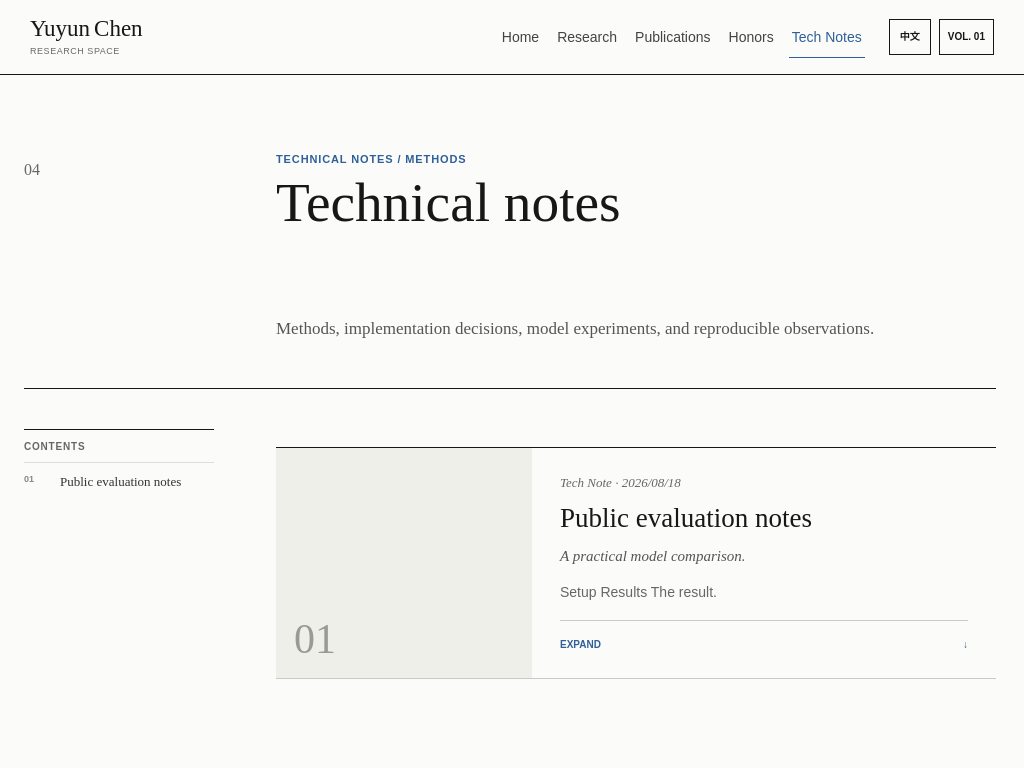
Test: owner session restoration › renders published Tech Notes on VOL.01 with the article card and outline
This screenshot has width=1024, height=768.
expect the element "Public evaluation notes" is shown: met, box [276,447,996,679]
Click the button "Expand ↓": (580, 644) [560,620,968,658]
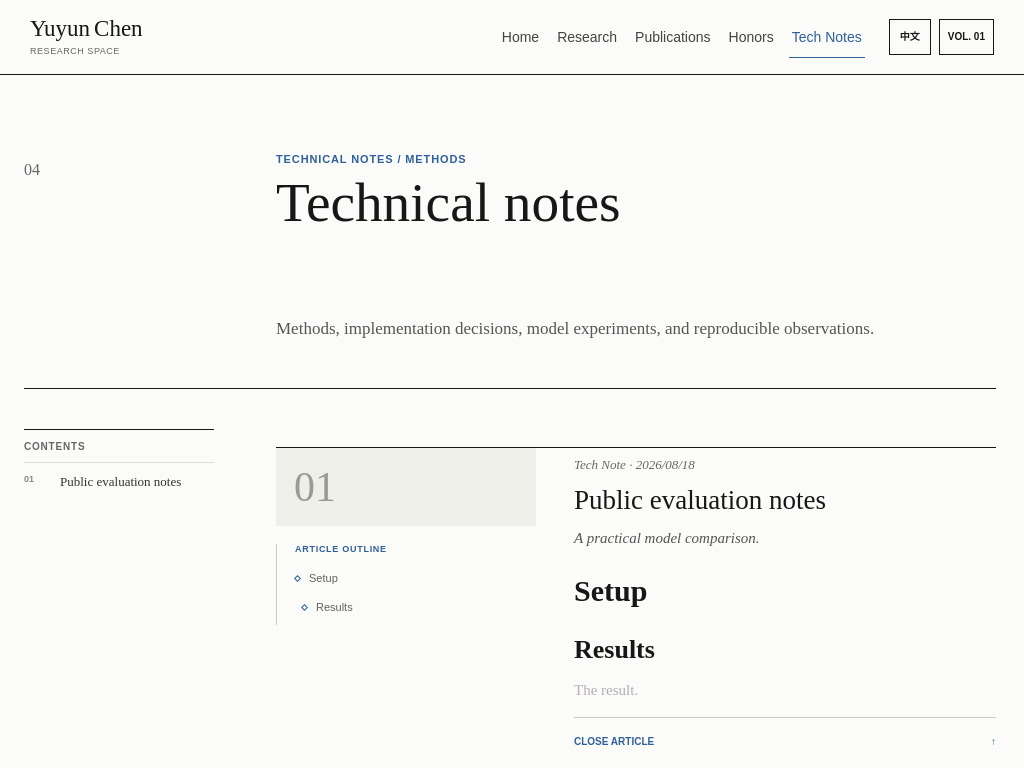
expect the navigation bar "Article outline" is shown: met, box [276,544,536,625]
expect the button "Setup" is shown: met, box [295,565,536,592]
expect the heading "Results" is shown: met, box [574,635,655,664]
